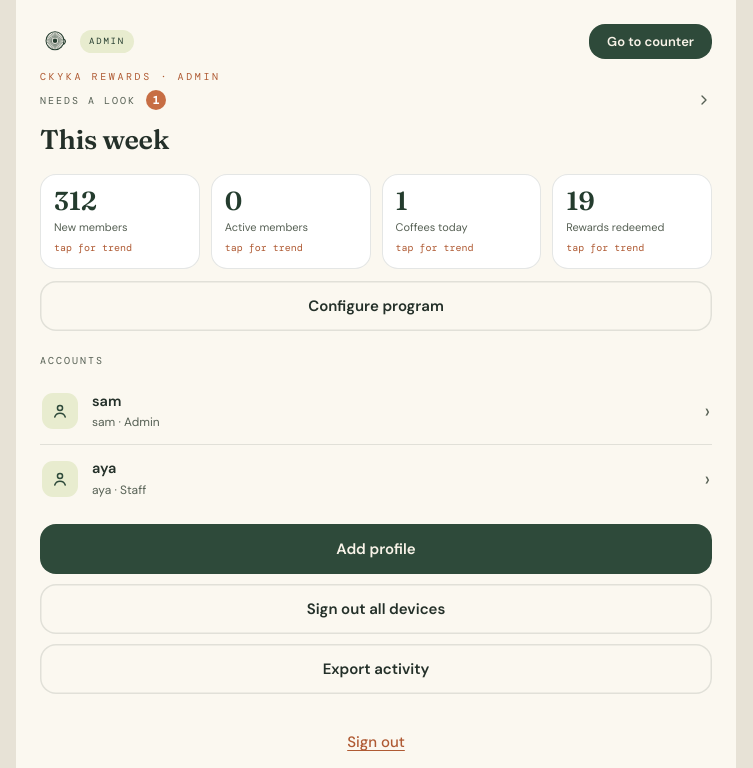
Admin screen › renders derived stats and section headers for an admin
Expected: the element with class "stats" is shown, [40, 174, 712, 269]
Click the button with class "admin-collapse" at (88, 100), box [40, 90, 712, 110]
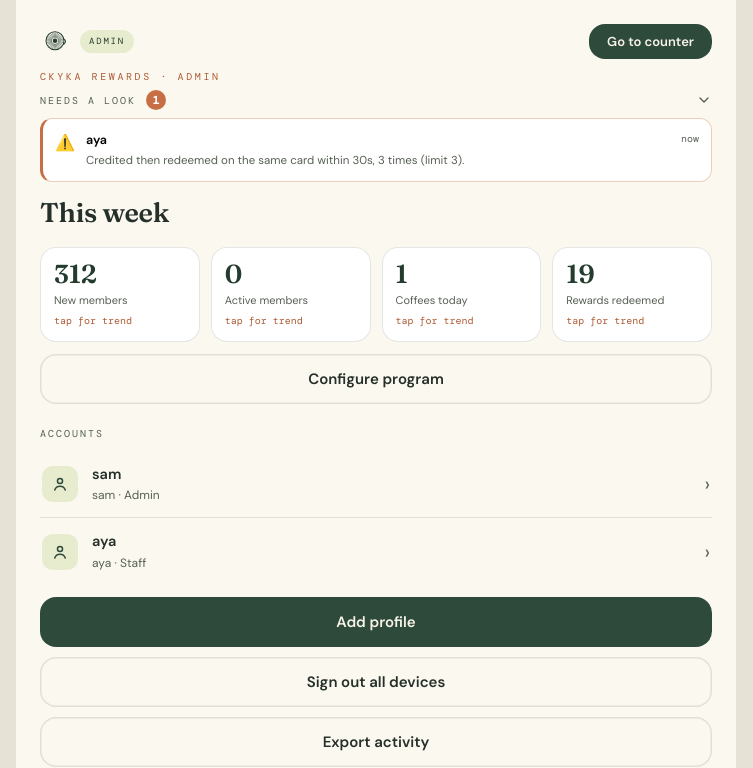
Now the button with class "alert" is shown, box [40, 118, 712, 182]
